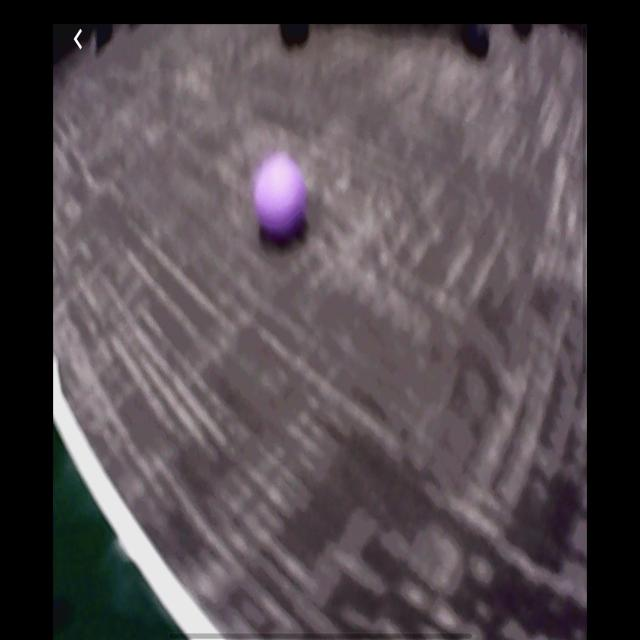ball: (252, 151, 309, 247)
